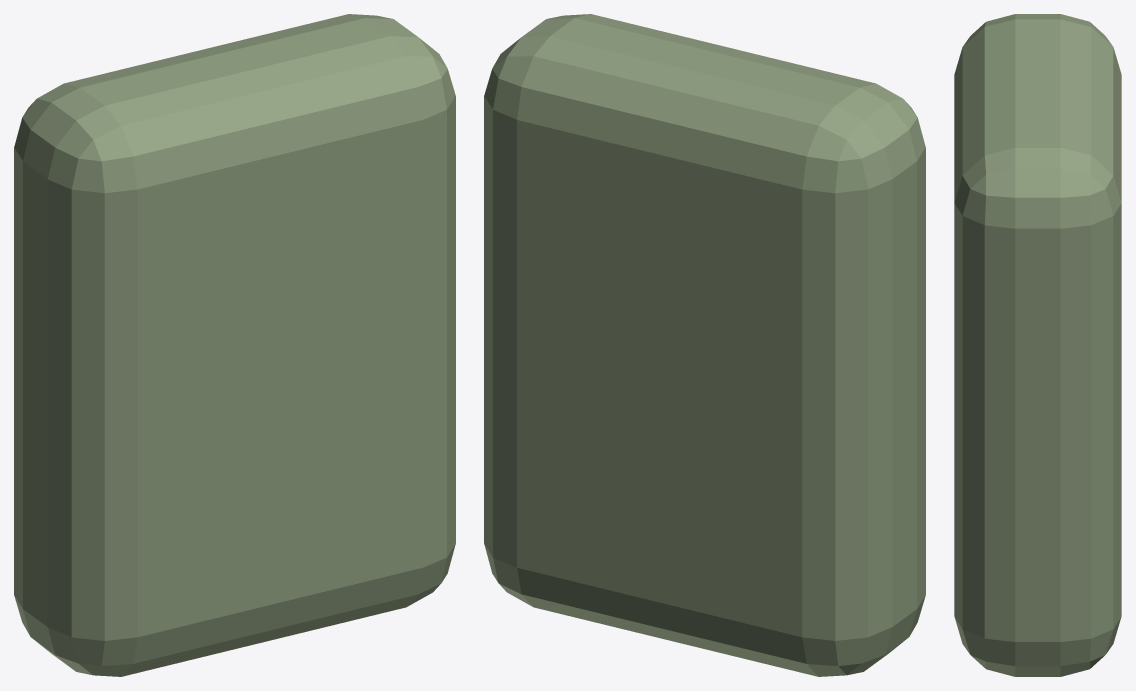
File: backpack.glb
3 renders of one model, left to right at view 1: azimuth 30°, elevation 25°; view 2: azimuth 150°, elevation 25°; view 3: azimuth 270°, elevation 25°, orthographic. The views are drawn at different scales.
Visible parts, largest first — view 1: backpack; view 2: backpack; view 3: backpack.
Boxes of the visible parts, <box> form: backpack: <box>14,14,455,676</box>; backpack: <box>484,14,925,676</box>; backpack: <box>954,14,1121,676</box>.
Size of the model in its own units: 0.14 by 0.19 by 0.055.
